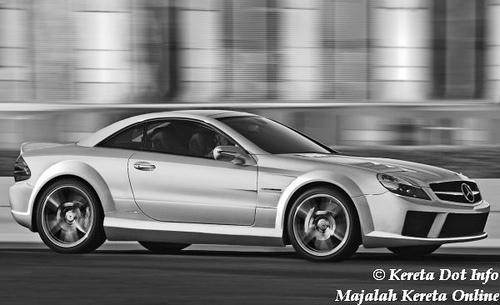car: (6, 108, 493, 267)
